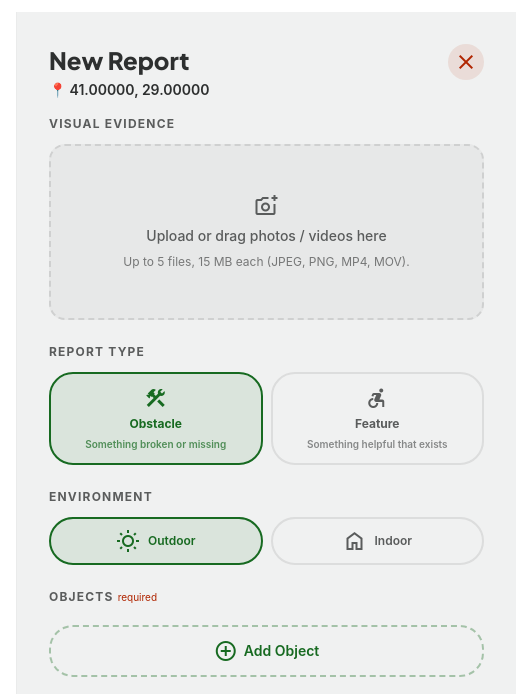
CreateReportPanel › form validation › shows error when submitting with an object but no type selected
What coordinates should you click on to do the following:
click the button "Add Object"
I would click on:
 (266, 650)
Its box is [49,624,484,676].
(page scrolled)
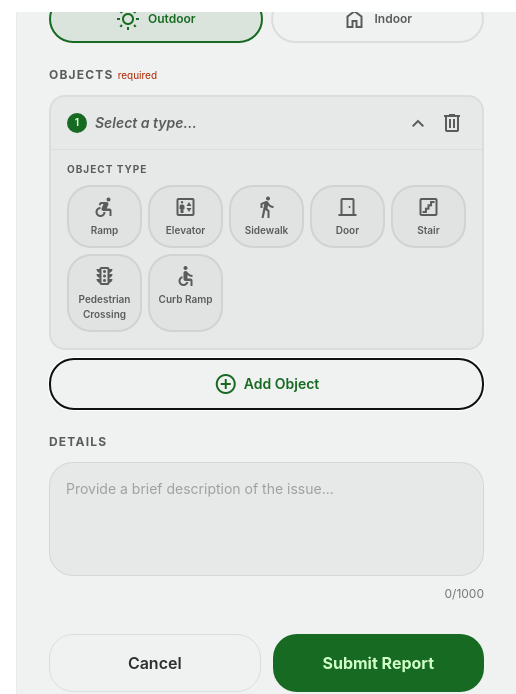
What coordinates should you click on to do the following:
click the button "Submit Report"
I would click on:
 (378, 662)
Its box is [272,634,484,692].
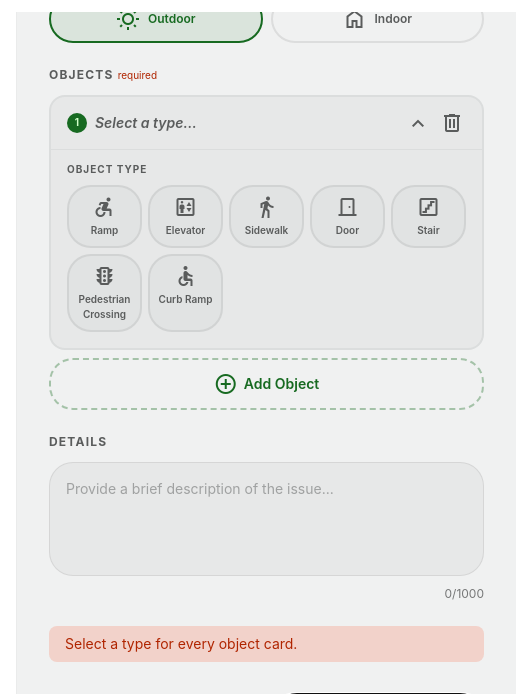
Now the text "Select a type for every object card." is shown, box [49,626,484,662]
